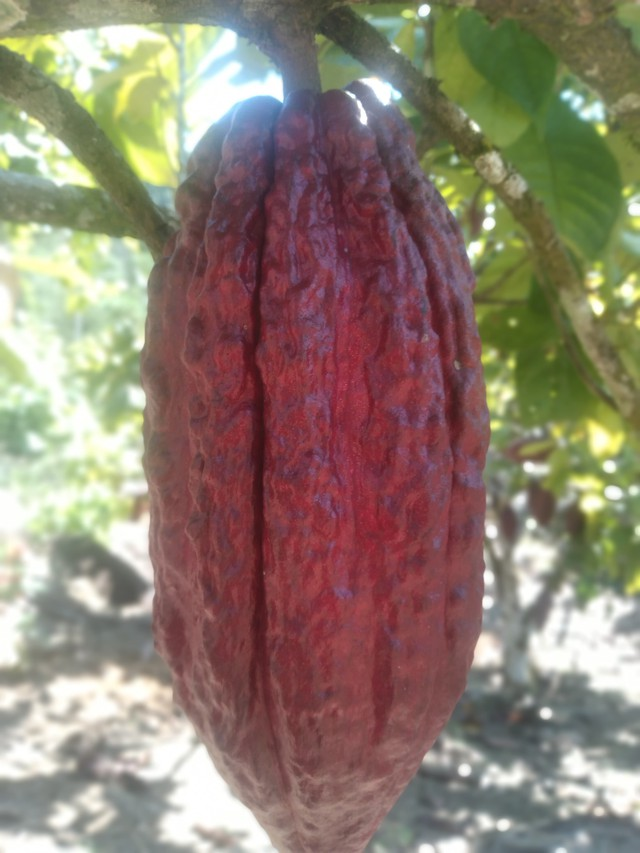Health: (120, 65, 495, 853)
